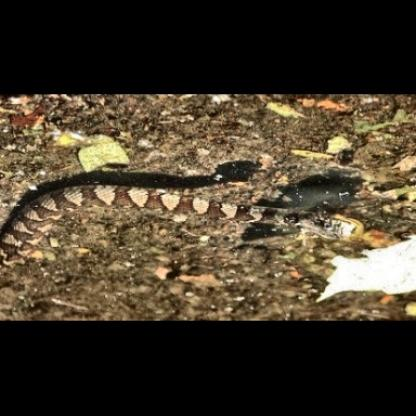Snake: (8, 176, 416, 243)
